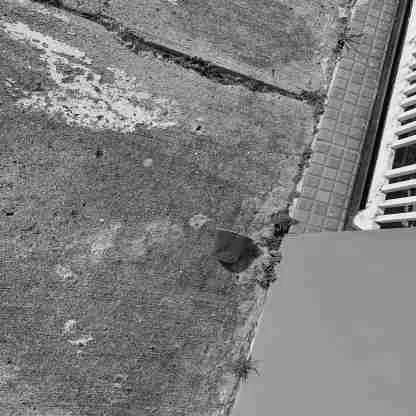plastic: (209, 220, 258, 268)
